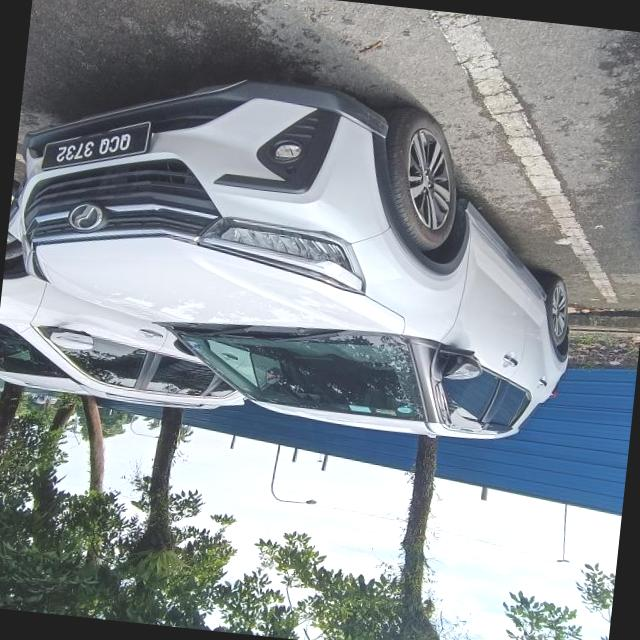PeroduaAtiva: (0, 55, 596, 452)
